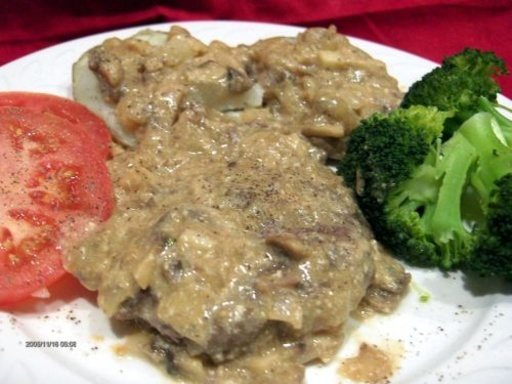background: (0, 15, 410, 230)
